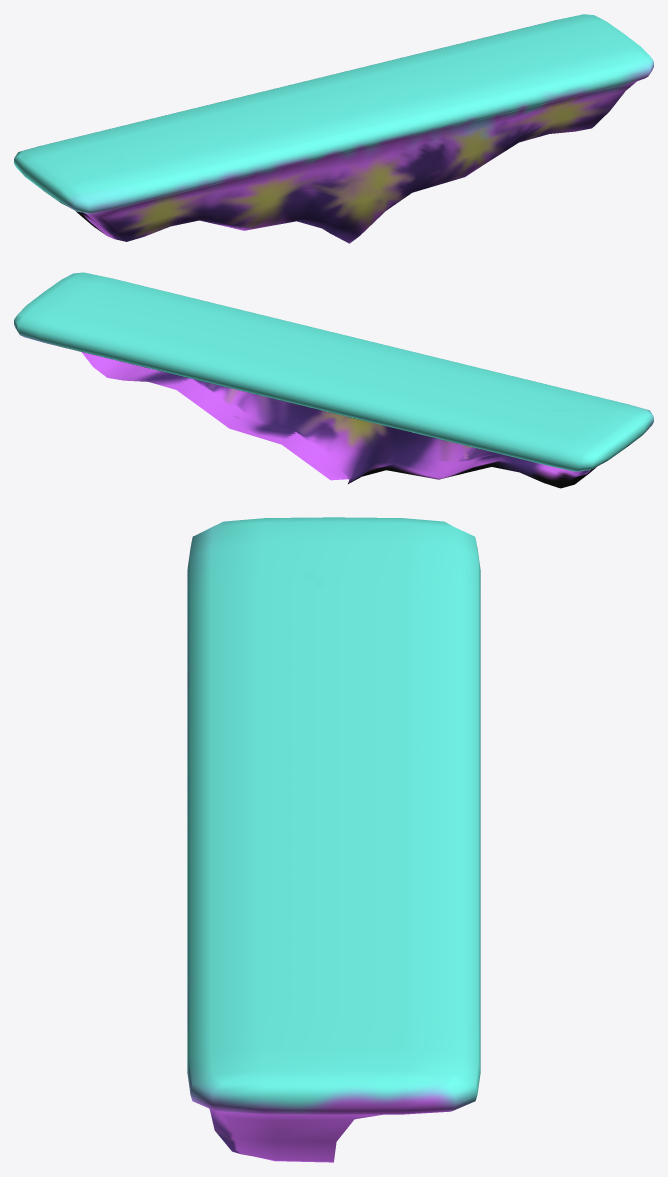
Rendered from board_02.fbx.
The picture shows the model from 3 angles, top to bottom: view 1: azimuth 30°, elevation 25°; view 2: azimuth 150°, elevation 25°; view 3: azimuth 270°, elevation 25°; orthographic projection. The views are drawn at different scales.
Visible parts, largest first — view 1: Cube; view 2: Cube; view 3: Cube.
Boxes of the visible parts, x1,y1,x2,y2 form: Cube: [14, 14, 653, 243]; Cube: [14, 272, 653, 488]; Cube: [187, 517, 480, 1162].
Bounding box in the file's own units: 459 × 97.51 × 99.44.
Materials: 1 (1 with a texture image).
